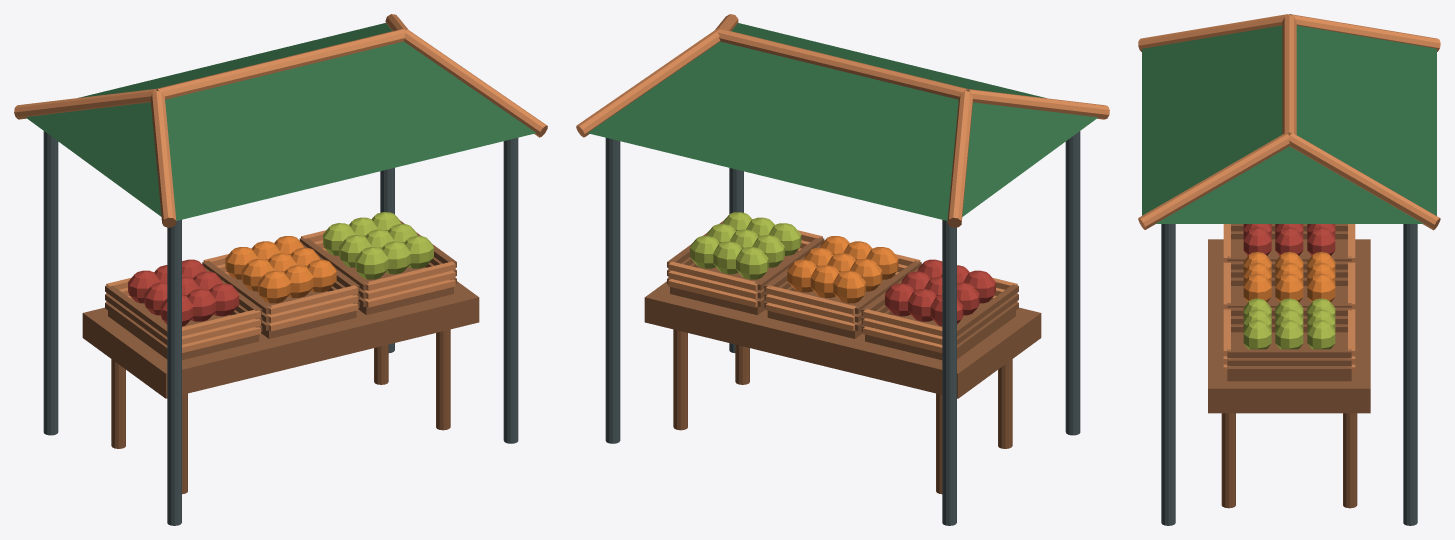
The model's file is 051_produce_stall.glb.
3 renders of one model, left to right at view 1: azimuth 30°, elevation 25°; view 2: azimuth 150°, elevation 25°; view 3: azimuth 270°, elevation 25°, orthographic. The views are drawn at different scales.
Parts seen in each view (by area): view 1: Produce stall; view 2: Produce stall; view 3: Produce stall.
Part boxes in pixels (x1=…): Produce stall: x1=14, y1=14, x2=547, y2=525; Produce stall: x1=576, y1=14, x2=1109, y2=525; Produce stall: x1=1138, y1=14, x2=1440, y2=525.
Size of the model in its own units: 2.73 by 2.56 by 1.9.
